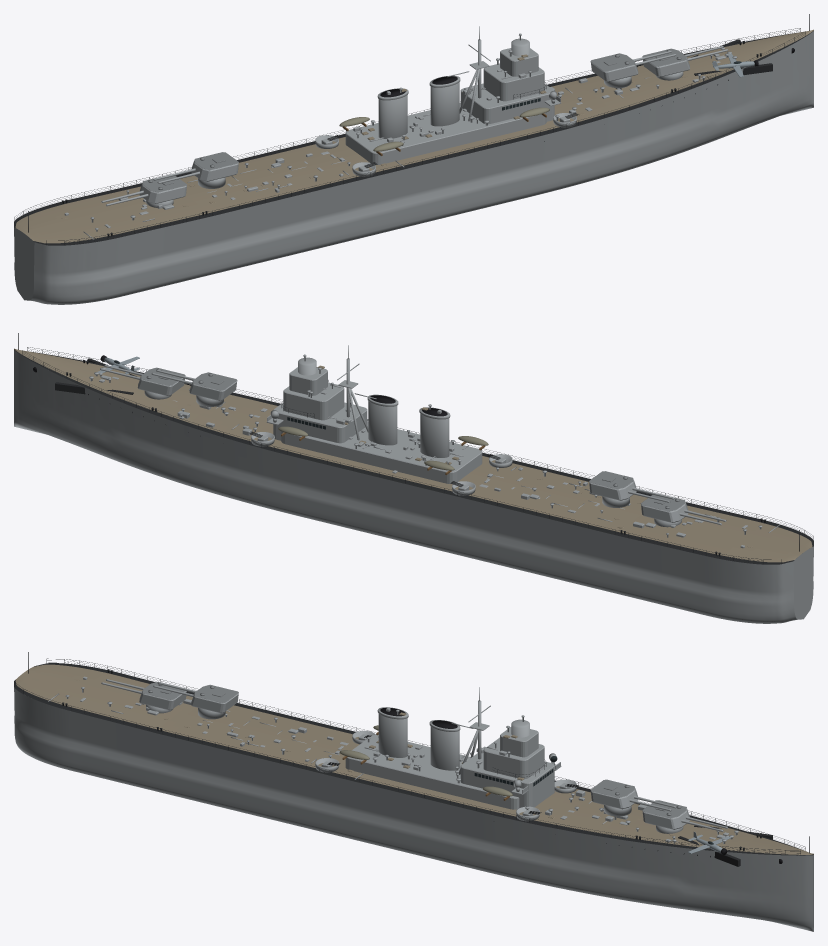
File: zara.glb
The picture shows the model from 3 angles, top to bottom: view 1: azimuth 30°, elevation 25°; view 2: azimuth 150°, elevation 25°; view 3: azimuth 330°, elevation 25°; orthographic projection.
Parts seen in each view (by area): view 1: zara, T_2_malla, T_1_malla, T_3_malla, T_0_malla; view 2: zara, T_2_malla, T_1_malla, T_3_malla, T_0_malla; view 3: zara, T_1_malla, T_2_malla, T_0_malla, T_3_malla.
Part boxes in pixels (left/top/right/bottom): zara: left=14, top=14, right=813, bottom=304; T_2_malla: left=191, top=152, right=238, bottom=181; T_1_malla: left=590, top=53, right=638, bottom=81; T_3_malla: left=139, top=174, right=186, bottom=203; T_0_malla: left=642, top=48, right=690, bottom=76; zara: left=14, top=333, right=813, bottom=623; T_2_malla: left=589, top=471, right=636, bottom=500; T_1_malla: left=189, top=372, right=237, bottom=400; T_3_malla: left=641, top=493, right=688, bottom=522; T_0_malla: left=137, top=367, right=185, bottom=395; zara: left=14, top=652, right=813, bottom=931; T_1_malla: left=590, top=779, right=637, bottom=809; T_2_malla: left=191, top=684, right=238, bottom=713; T_0_malla: left=642, top=800, right=689, bottom=829; T_3_malla: left=139, top=681, right=186, bottom=710.
Size of the model in its own units: 183 by 36 by 20.91.
